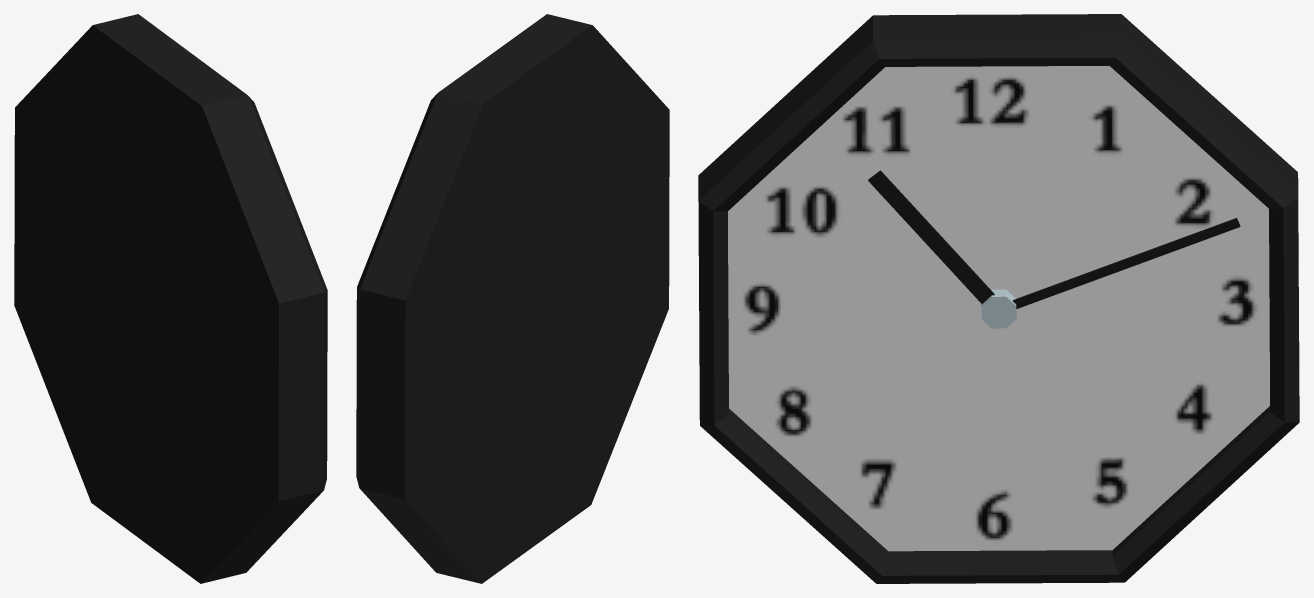
File: Clock.fbx
3 views of the same model, side by side, from view 1: azimuth 30°, elevation 25°; view 2: azimuth 150°, elevation 25°; view 3: azimuth 270°, elevation 25° (orthographic). The views are drawn at different scales.
Parts seen in each view (by area): view 1: Clock; view 2: Clock; view 3: Clock.
Part boxes in pixels (x1=…): Clock: x1=14, y1=14, x2=327, y2=583; Clock: x1=356, y1=14, x2=669, y2=583; Clock: x1=698, y1=14, x2=1299, y2=583.
Bounding box in the file's own units: 7.51 × 62.52 × 62.52.
